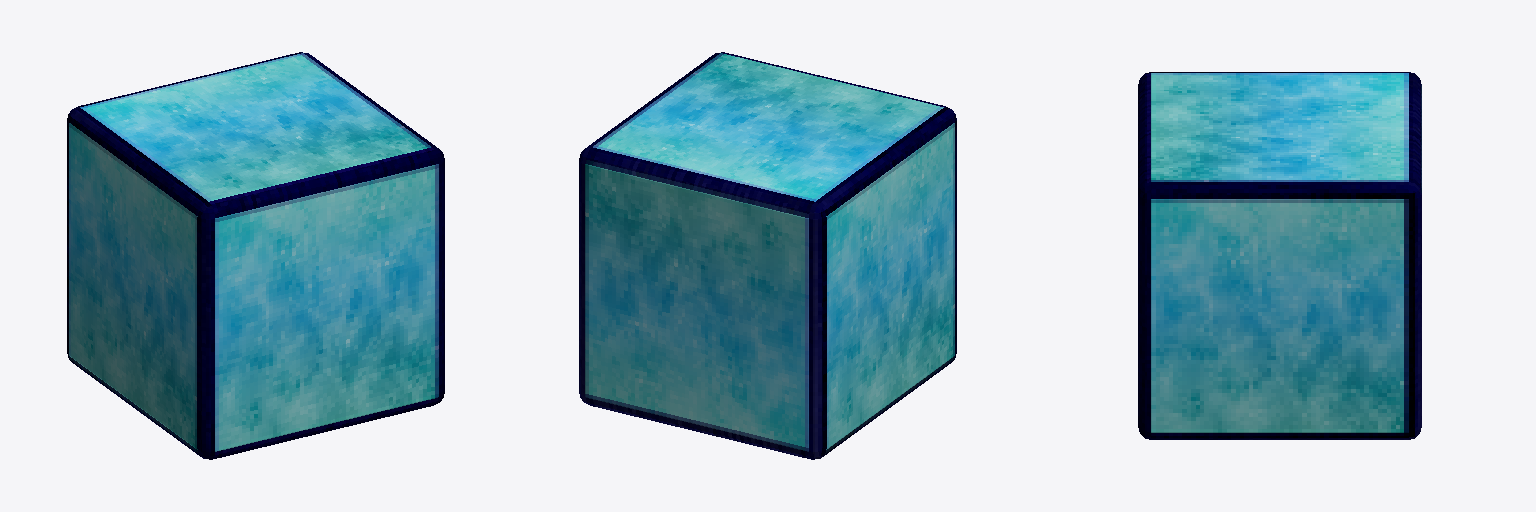
3 views of the same model, side by side, from view 1: azimuth 30°, elevation 25°; view 2: azimuth 150°, elevation 25°; view 3: azimuth 270°, elevation 25° (orthographic).
Visible parts, largest first — view 1: default; view 2: default; view 3: default.
Part boxes in pixels (x1,y1,x2,y2): default: (67, 52, 444, 459); default: (579, 52, 956, 459); default: (1138, 72, 1421, 439).
Size of the model in its own units: 1 by 1 by 1.
1 materials, 1 textured.